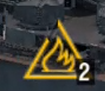2fire: (18, 51, 97, 84)
